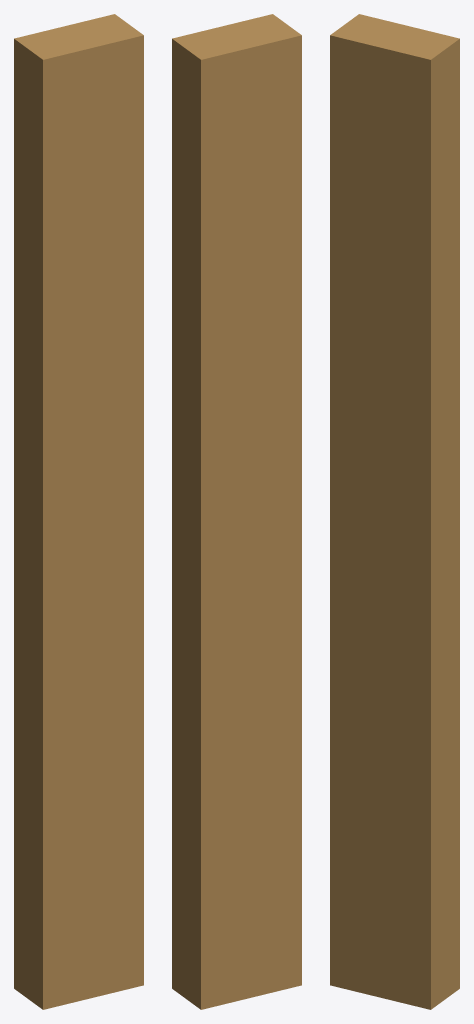
3 views of the same model, side by side, from view 1: azimuth 30°, elevation 25°; view 2: azimuth 210°, elevation 25°; view 3: azimuth 330°, elevation 25° (orthographic).
Parts seen in each view (by area): view 1: GAP-14-L-jack_stud-p1; view 2: GAP-14-L-jack_stud-p1; view 3: GAP-14-L-jack_stud-p1.
Part boxes in pixels (x1,y1,x2,y2): GAP-14-L-jack_stud-p1: [14, 14, 143, 1009]; GAP-14-L-jack_stud-p1: [172, 14, 301, 1009]; GAP-14-L-jack_stud-p1: [330, 14, 459, 1009].
Bounding box in the file's own units: 0.09 × 0.81 × 0.045.
